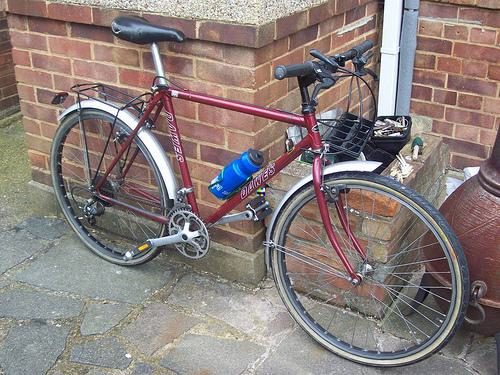car: (50, 15, 473, 369)
